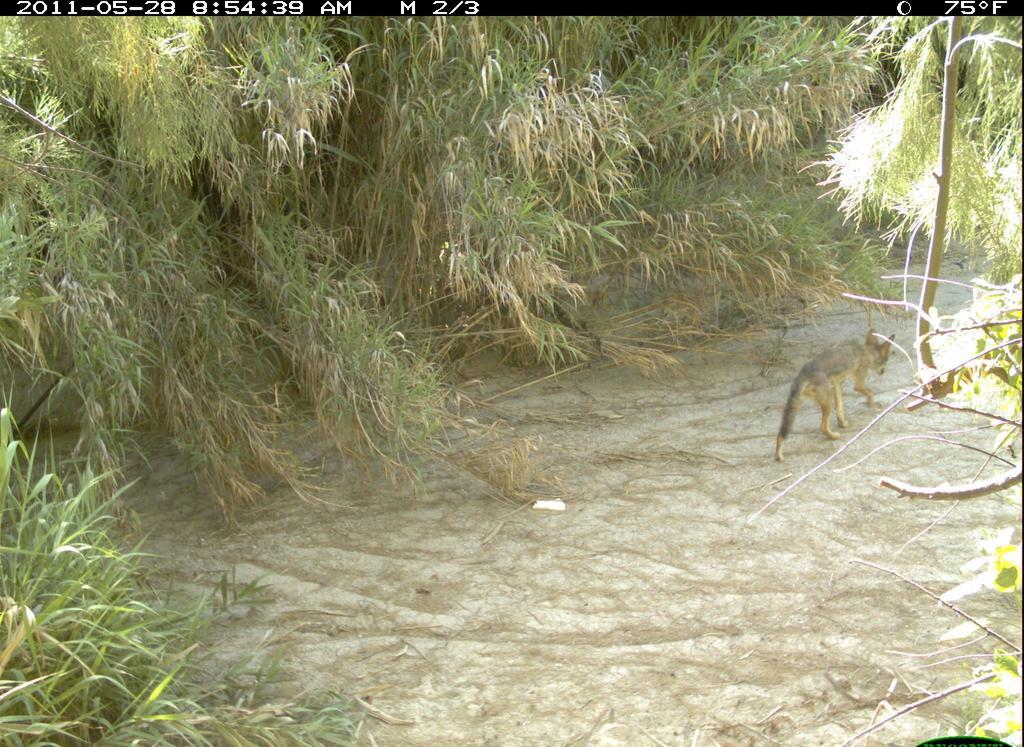coyote: (757, 327, 902, 464)
